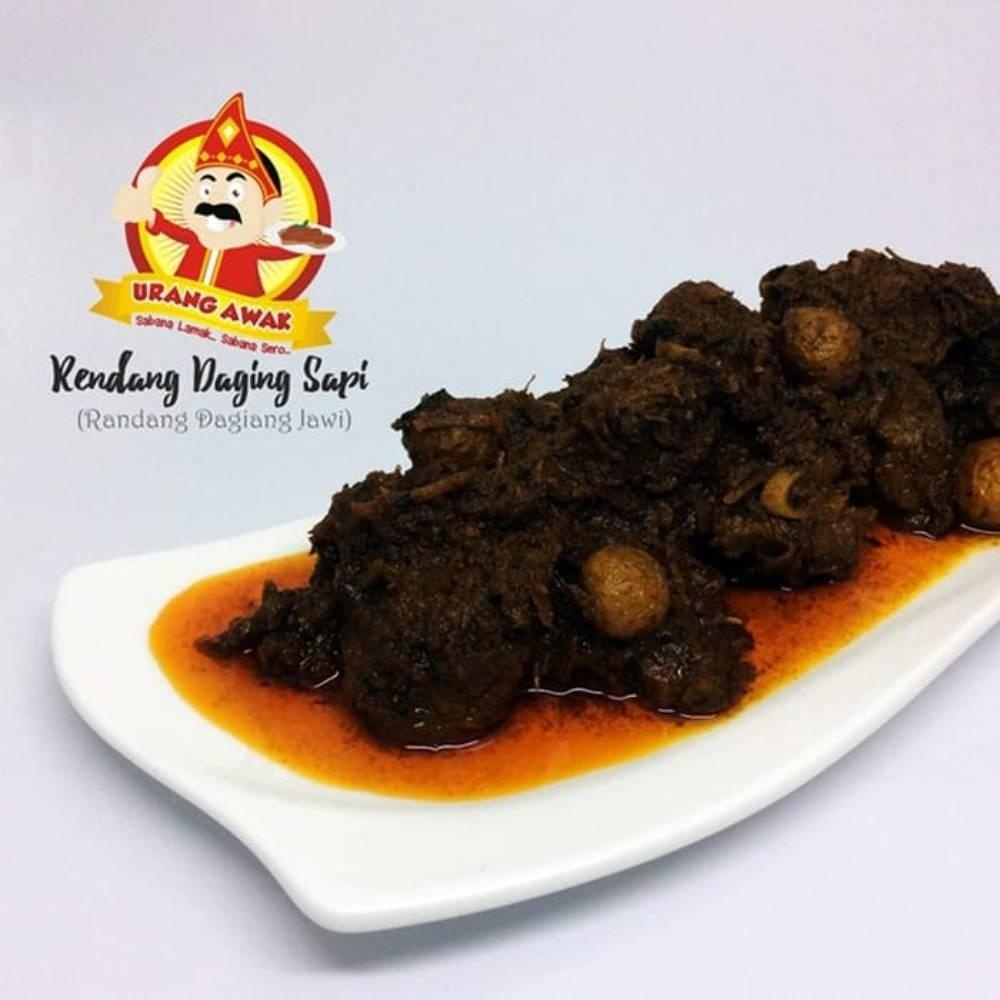rendang: (339, 256, 1000, 756)
